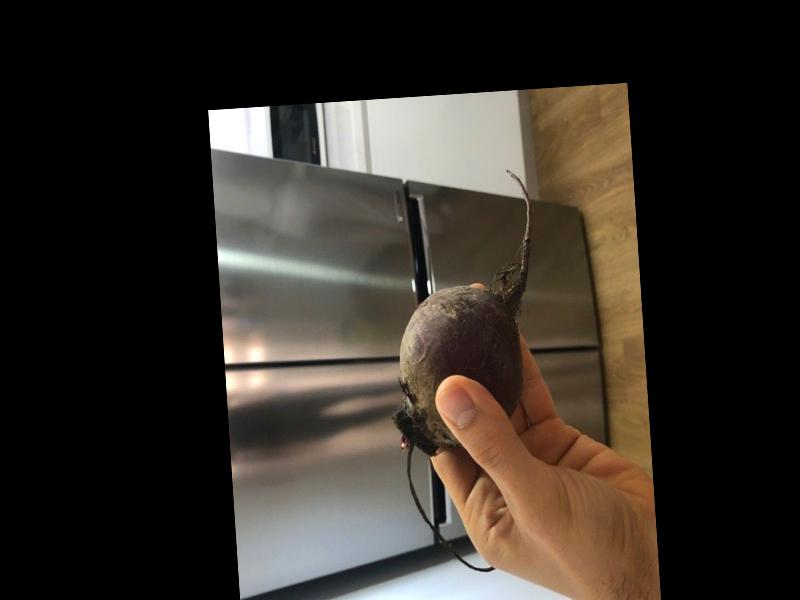Beet: (379, 165, 554, 576)
